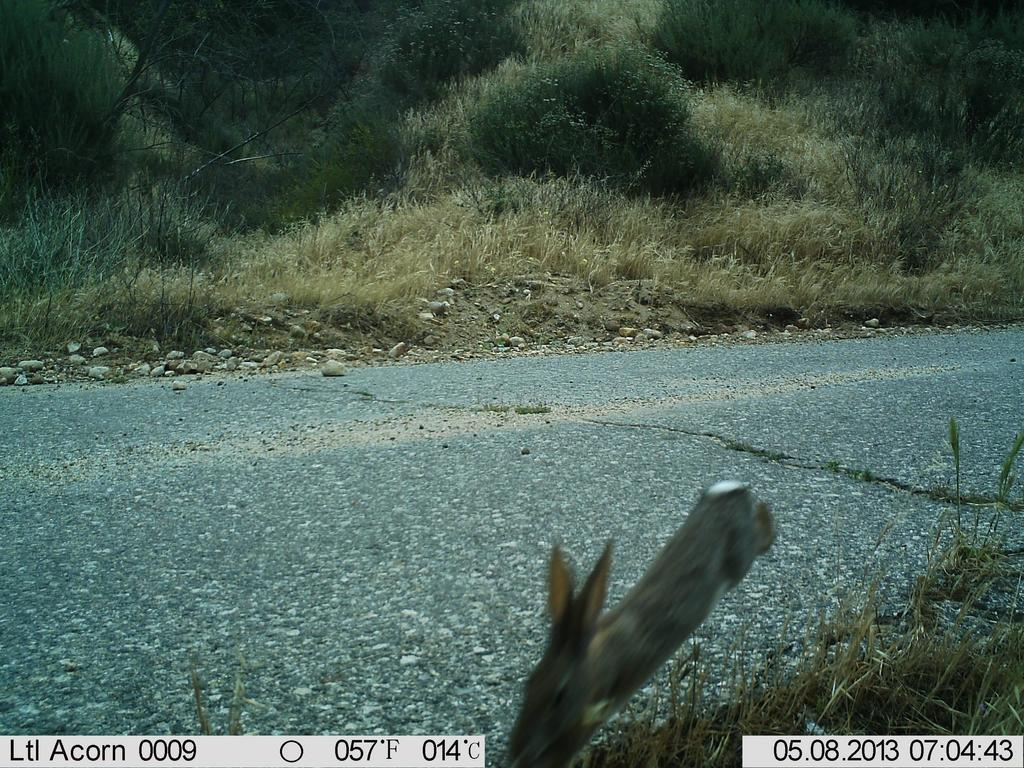rabbit: (493, 461, 783, 765)
